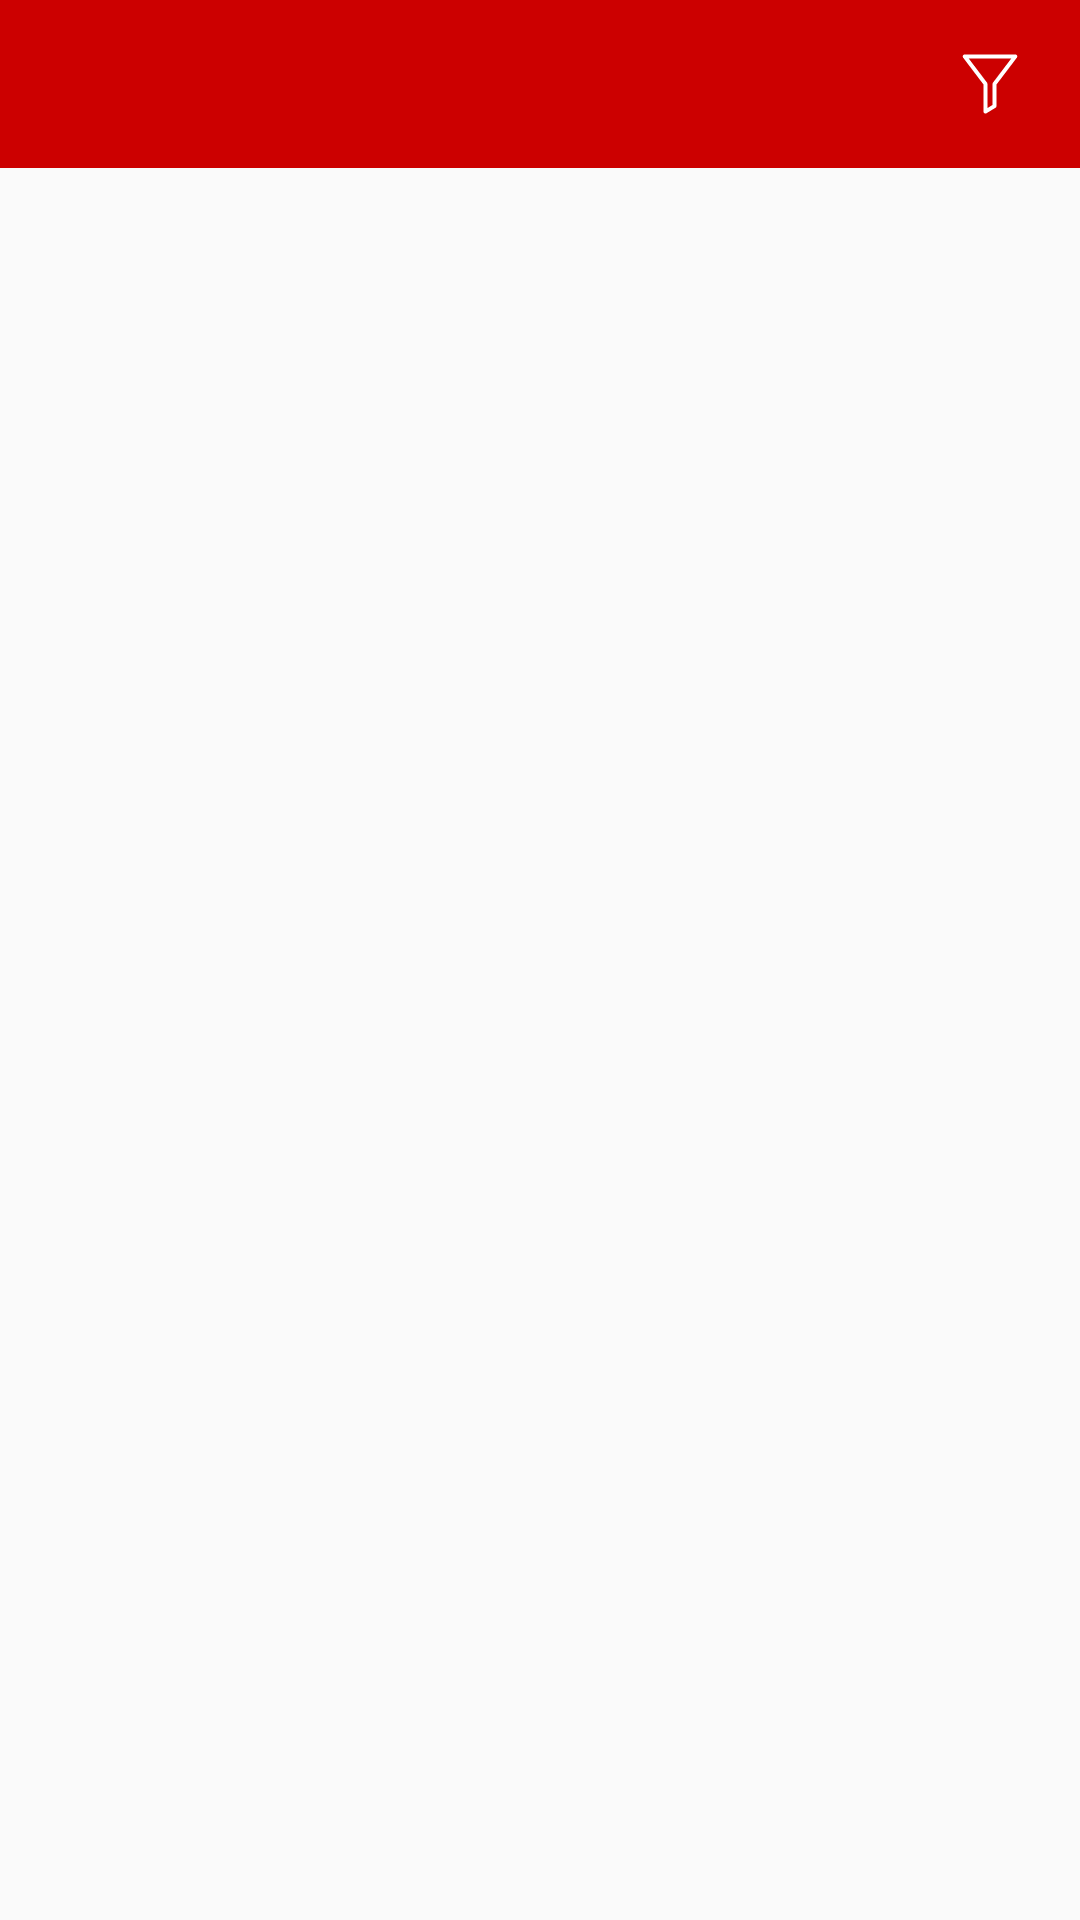

Icons on this 1080px x 1920px Android screen, each with the point to tap as (x=x, y=y):
filter: (x=990, y=84)
